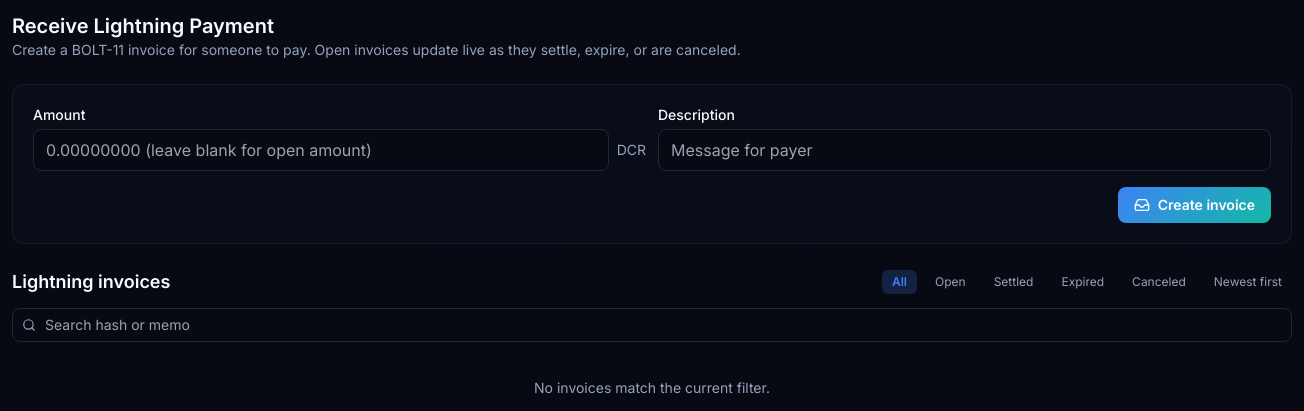
Test: does not create an invoice from an unfinished amount
In the field with id "ln-rcv-amount": (321, 150) [33, 129, 609, 171], type "."
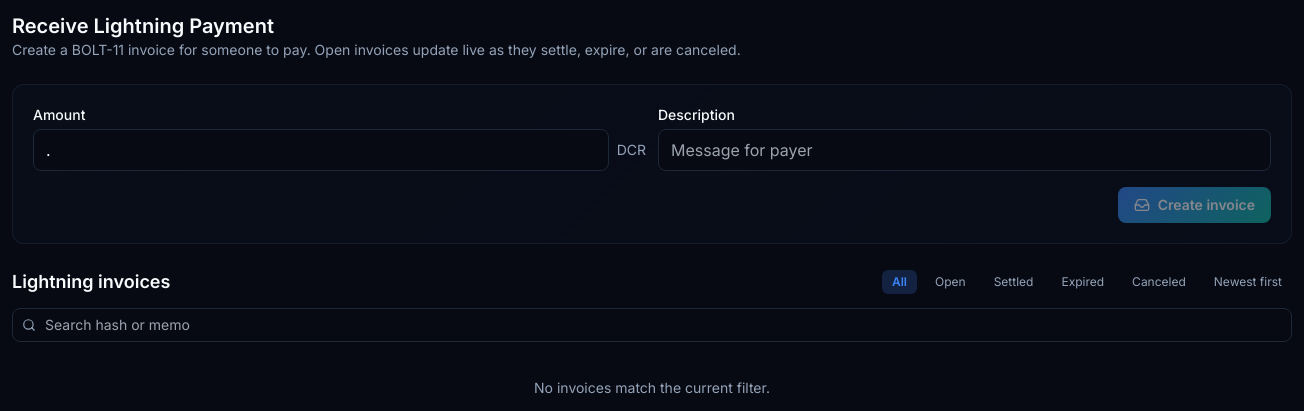
Now the button "Create invoice" is disabled, box [1118, 187, 1271, 223]
